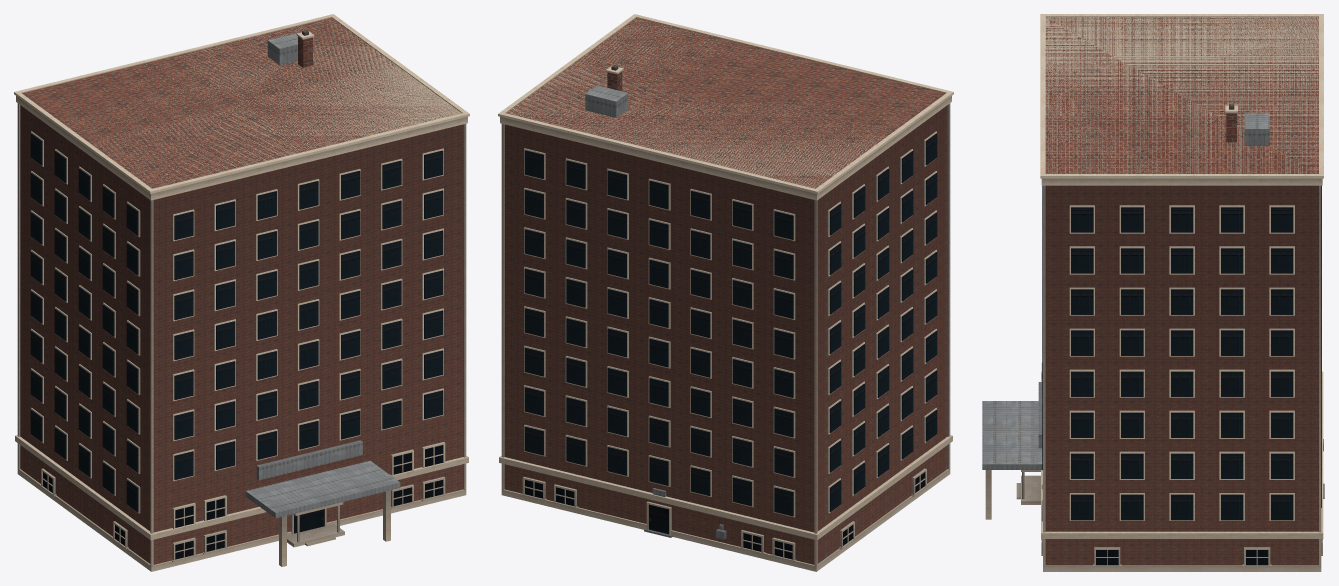
The model's file is larned-house-hotel_lod0.gltf.
3 renders of one model, left to right at view 1: azimuth 30°, elevation 25°; view 2: azimuth 150°, elevation 25°; view 3: azimuth 270°, elevation 25°, orthographic. The views are drawn at different scales.
Visible parts, largest first — view 1: larned-house-hotel_main, larned-house-hotel_fen_07-glass-curtain-blue_1_t, larned-house-hotel__cornice, larned-house-hotel_fen_04-limestone_0, larned-house-hotel__v4_stone_detail, larned-house-hotel__porte_cochere, larned-house-hotel__trim_band, larned-house-hotel__sign_band, larned-house-hotel__hvac; view 2: larned-house-hotel_main, larned-house-hotel_fen_07-glass-curtain-blue_1_t, larned-house-hotel_fen_04-limestone_0, larned-house-hotel__cornice, larned-house-hotel__v4_stone_detail, larned-house-hotel__trim_band, larned-house-hotel__hvac; view 3: larned-house-hotel_main, larned-house-hotel__cornice, larned-house-hotel_fen_07-glass-curtain-blue_1_t, larned-house-hotel_fen_04-limestone_0, larned-house-hotel__v4_stone_detail, larned-house-hotel__porte_cochere, larned-house-hotel__trim_band, larned-house-hotel__hvac.
Part boxes in pixels (bbox=[...]): larned-house-hotel_main: bbox=[20, 18, 463, 564]; larned-house-hotel_fen_07-glass-curtain-blue_1_t: bbox=[30, 133, 443, 559]; larned-house-hotel__cornice: bbox=[16, 18, 467, 200]; larned-house-hotel_fen_04-limestone_0: bbox=[31, 131, 446, 562]; larned-house-hotel__v4_stone_detail: bbox=[14, 14, 469, 571]; larned-house-hotel__porte_cochere: bbox=[245, 460, 400, 518]; larned-house-hotel__trim_band: bbox=[15, 435, 468, 540]; larned-house-hotel__sign_band: bbox=[256, 440, 362, 480]; larned-house-hotel__hvac: bbox=[267, 32, 298, 65]; larned-house-hotel_main: bbox=[504, 18, 947, 564]; larned-house-hotel_fen_07-glass-curtain-blue_1_t: bbox=[524, 133, 937, 559]; larned-house-hotel_fen_04-limestone_0: bbox=[521, 131, 936, 562]; larned-house-hotel__cornice: bbox=[500, 18, 951, 200]; larned-house-hotel__v4_stone_detail: bbox=[498, 14, 953, 571]; larned-house-hotel__trim_band: bbox=[499, 435, 952, 540]; larned-house-hotel__hvac: bbox=[585, 85, 628, 117]; larned-house-hotel_main: bbox=[1045, 17, 1318, 565]; larned-house-hotel__cornice: bbox=[1041, 17, 1322, 185]; larned-house-hotel_fen_07-glass-curtain-blue_1_t: bbox=[1042, 185, 1321, 565]; larned-house-hotel_fen_04-limestone_0: bbox=[1041, 205, 1322, 567]; larned-house-hotel__v4_stone_detail: bbox=[1016, 14, 1323, 571]; larned-house-hotel__porte_cochere: bbox=[982, 401, 1042, 469]; larned-house-hotel__trim_band: bbox=[1041, 371, 1323, 538]; larned-house-hotel__hvac: bbox=[1244, 113, 1269, 145].
Size of the model in its own units: 30.72 by 38.09 by 27.4.
